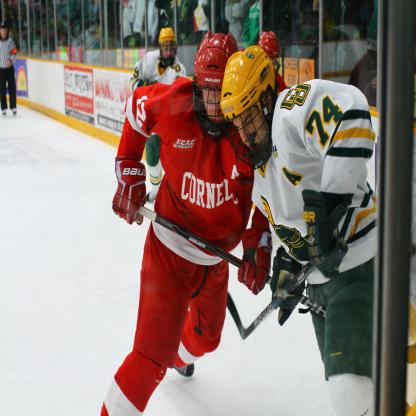Helmet: (220, 41, 281, 158), (193, 31, 237, 142), (158, 28, 176, 70), (258, 30, 280, 56)
